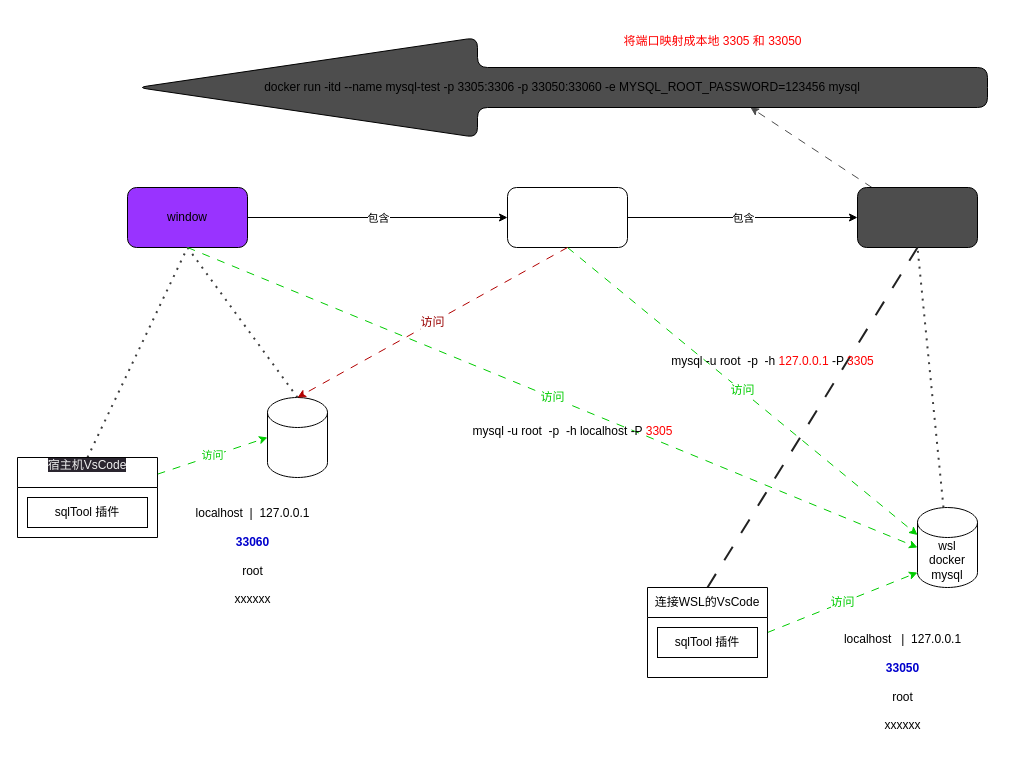
Some shapes in this 1015 by 765 pixel diagram are drawn without their labels. The shapes that lost their labels are listed below. From the top down, each one's centre as x and y in pixels, then its label:
the point at 567,217: wsl-ubuntu
the point at 917,217: wsl-ubuntu-docker
the point at 297,437: 宿主机mysql
